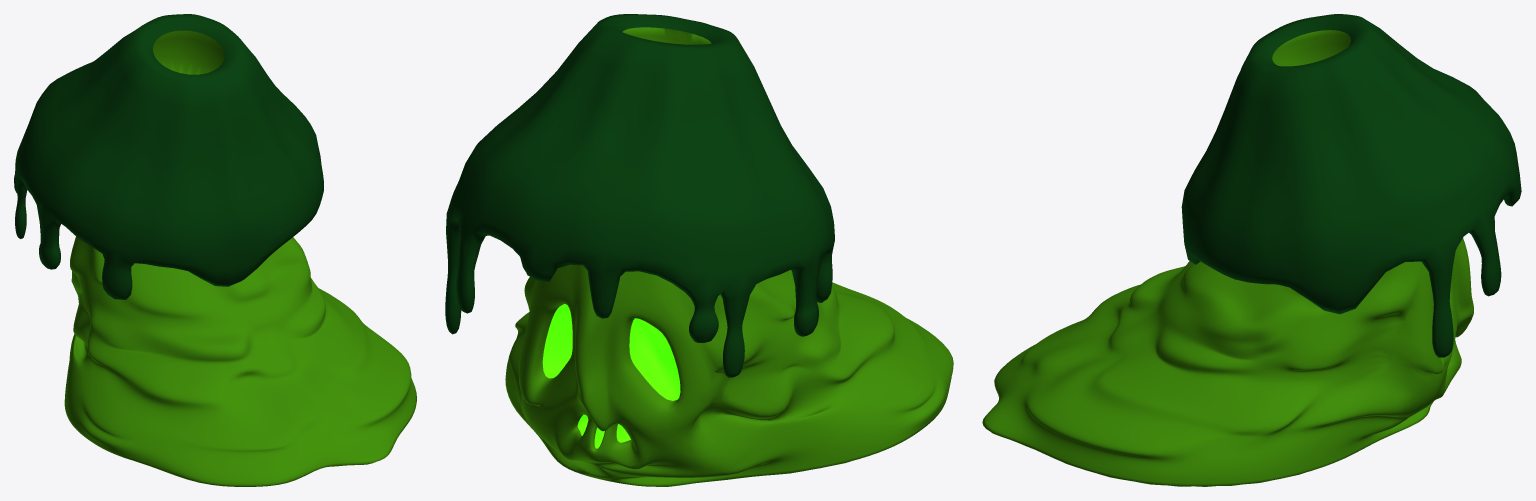
Rendered from Melma.fbx.
3 views of the same model, side by side, from view 1: azimuth 30°, elevation 25°; view 2: azimuth 150°, elevation 25°; view 3: azimuth 270°, elevation 25° (orthographic). The views are drawn at different scales.
Parts seen in each view (by area): view 1: SurfCircle.005_Mesh, Circle.001; view 2: Circle.001, SurfCircle.005_Mesh; view 3: SurfCircle.005_Mesh, Circle.001.
Part boxes in pixels (left/top/right/bottom): SurfCircle.005_Mesh: left=64, top=236, right=416, bottom=486; Circle.001: left=14, top=14, right=323, bottom=299; Circle.001: left=445, top=14, right=834, bottom=377; SurfCircle.005_Mesh: left=505, top=264, right=953, bottom=486; SurfCircle.005_Mesh: left=982, top=238, right=1473, bottom=486; Circle.001: left=1181, top=14, right=1521, bottom=357.
Size of the model in its own units: 325 by 337 by 435.
